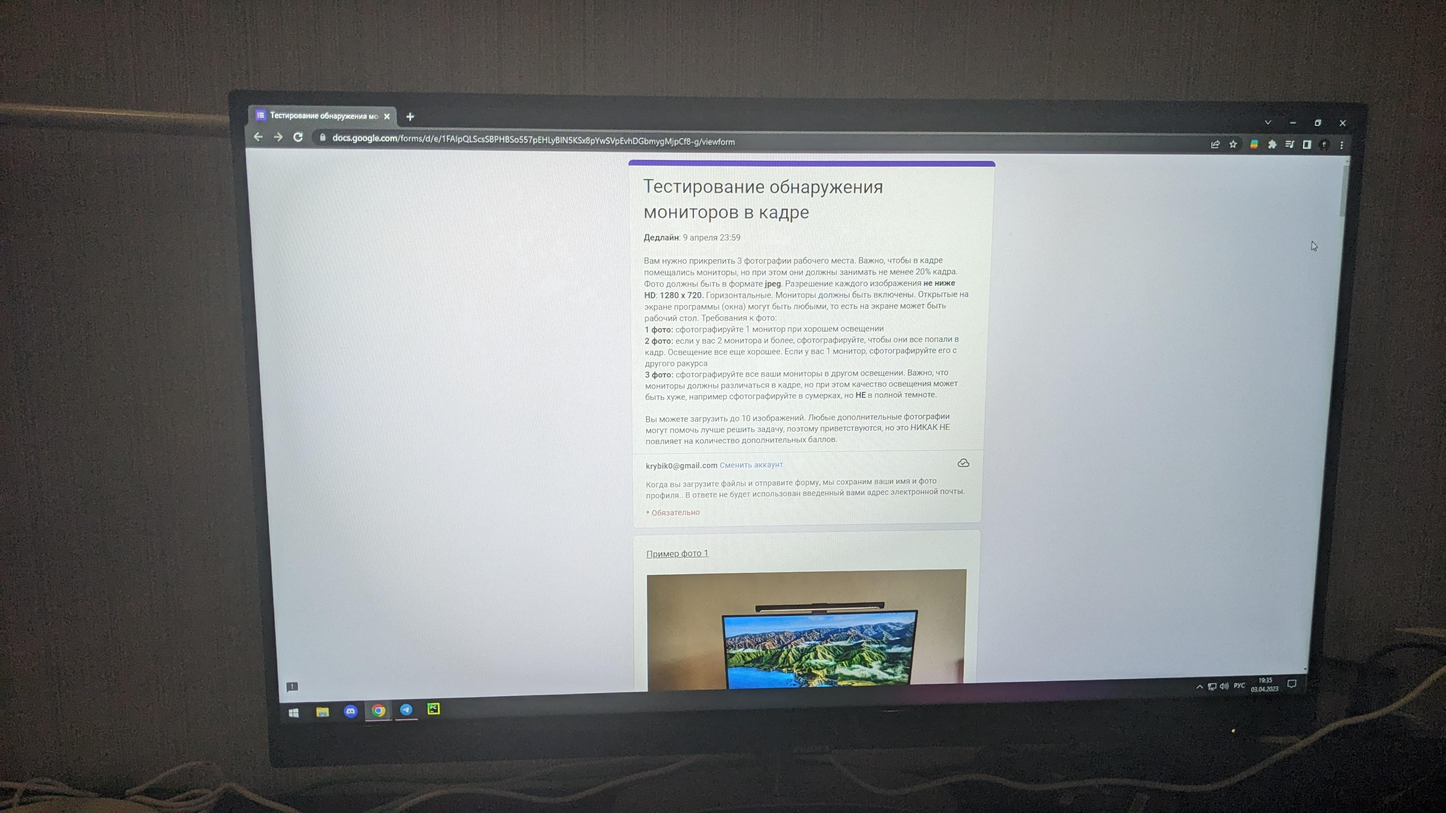monitor: (224, 77, 1370, 767)
